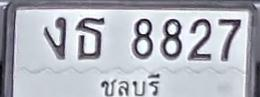2: (188, 17, 212, 60)
7: (218, 18, 241, 60)
8: (160, 17, 182, 60), (132, 18, 153, 58)
A07: (43, 16, 66, 59)
A24: (75, 16, 105, 59)
CBI: (97, 71, 164, 97)
